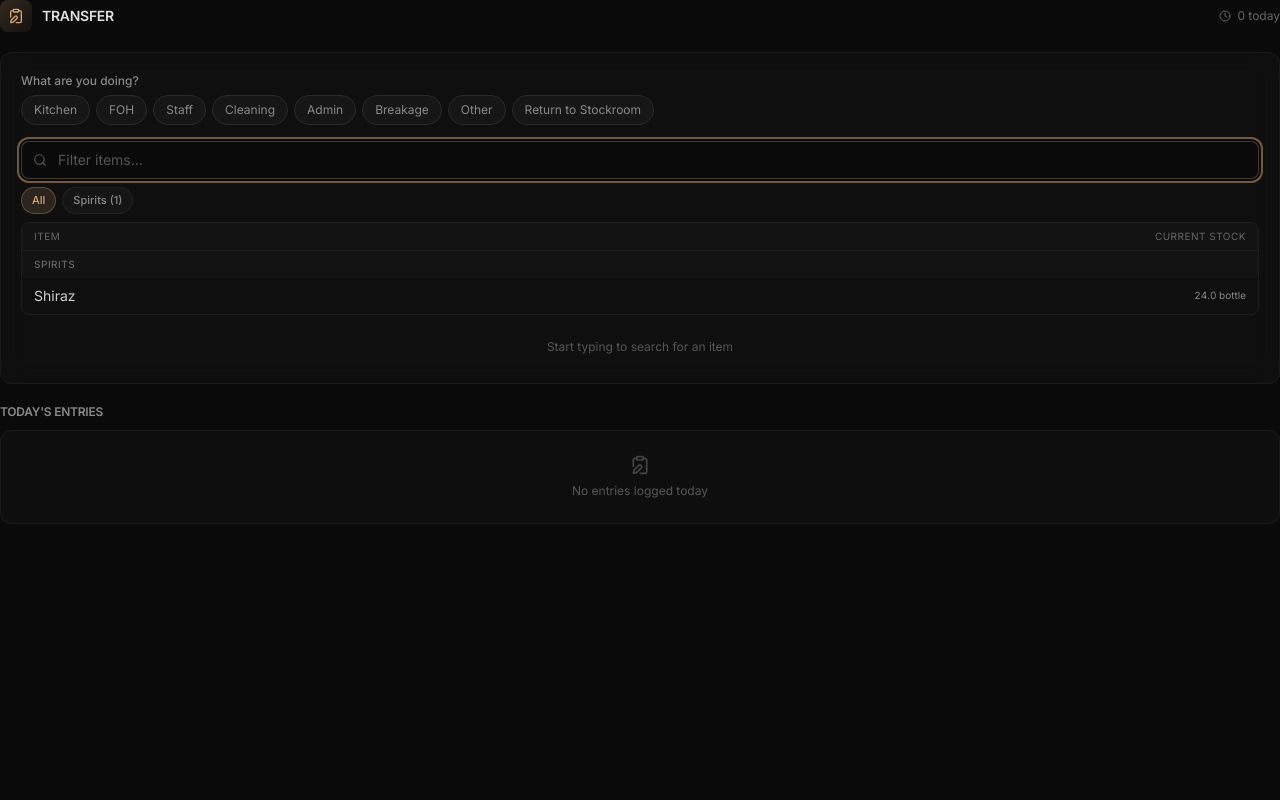
Test: ConsumptionLogger — move-not-usage guardrail › intercepts FOH usage of a sellable kitchen ingredient
Click the button "FOH": (122, 110) [96,95,147,125]
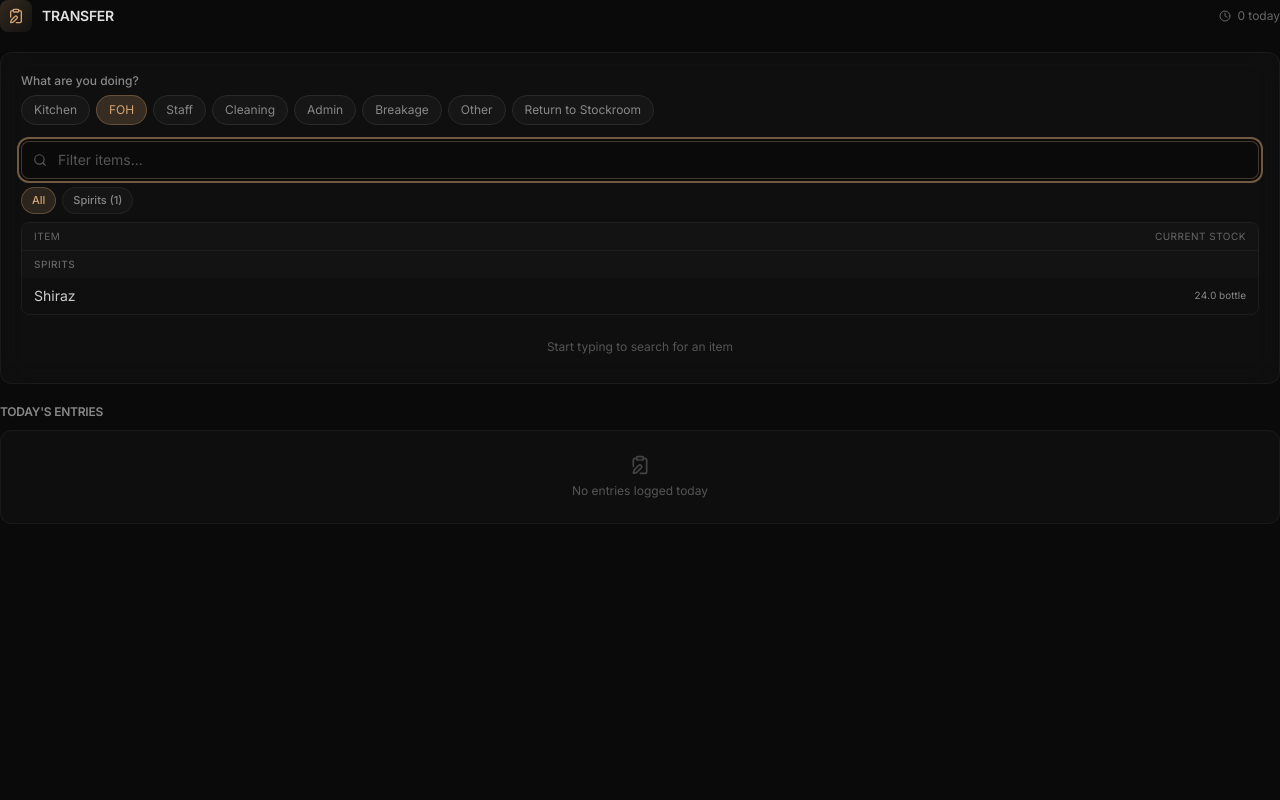
In the field with placeholder "Filter items...": (640, 160) [21,141,1259,179], type "Shiraz"
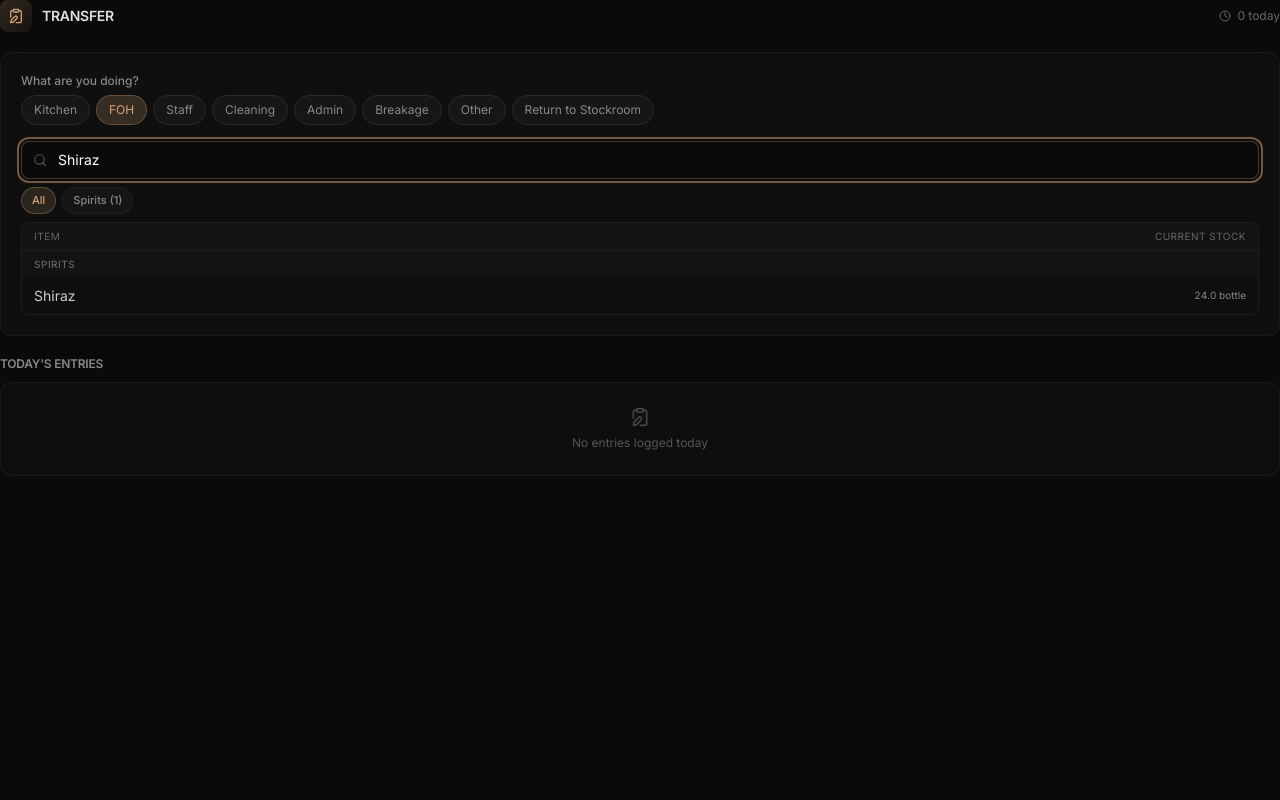
Click the button "Shiraz 24.0 bottle": (55, 295) [22,278,1258,314]
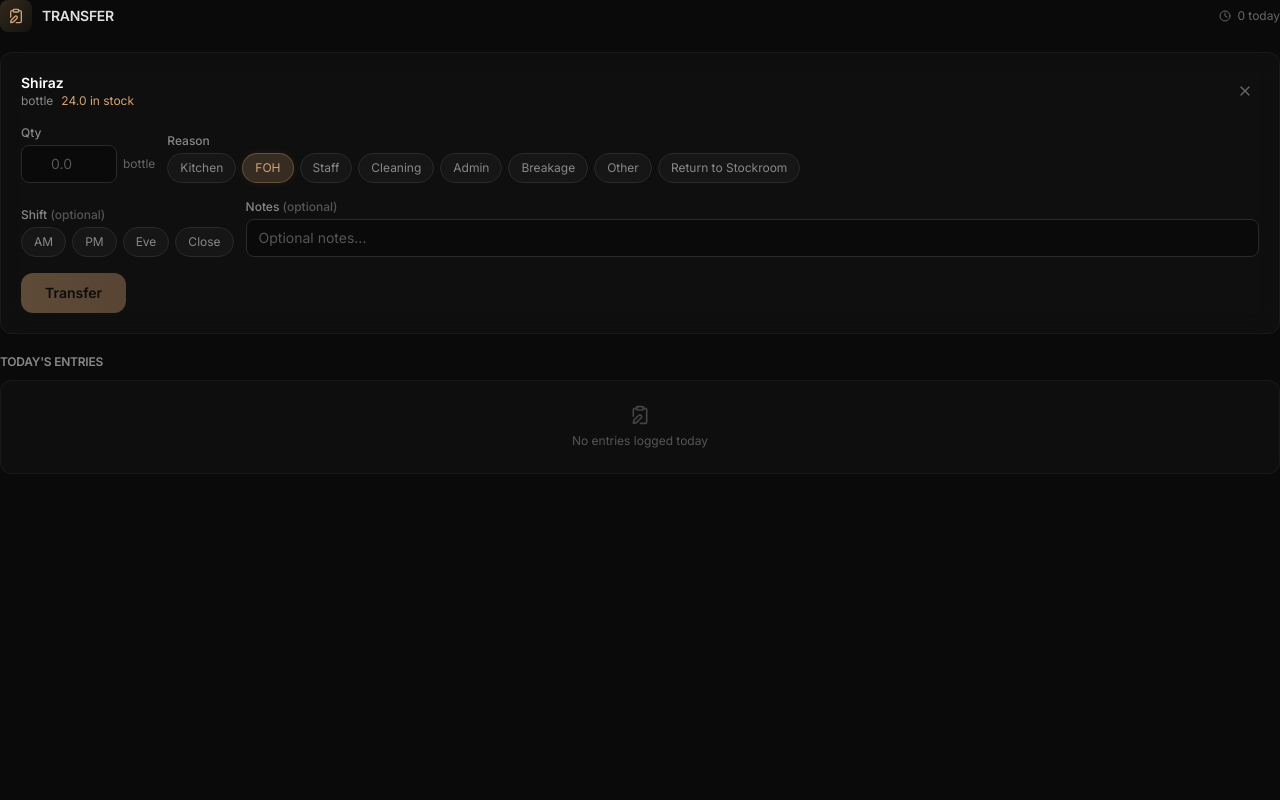
In the number field with placeholder "0.0": (69, 164) [21,145,117,183], type "4"
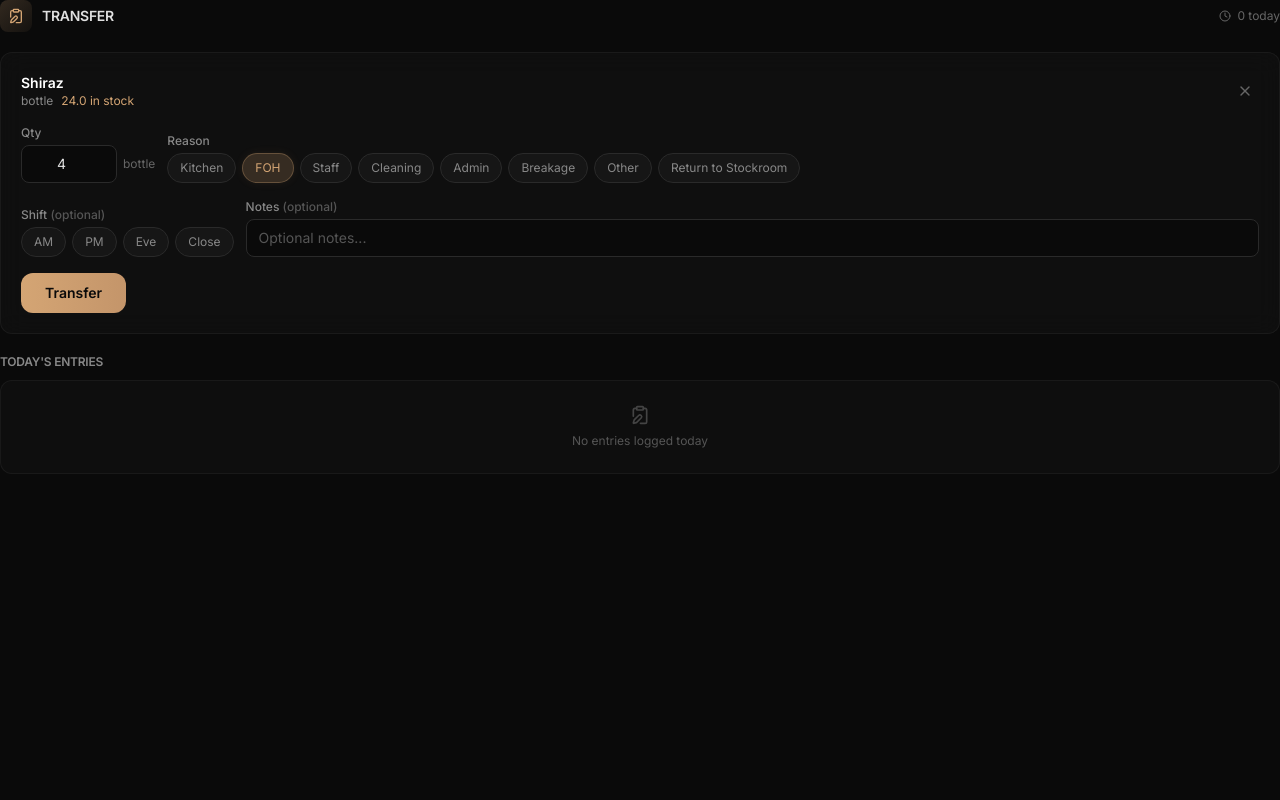
Click the button "Transfer": (74, 293) [21,273,126,313]
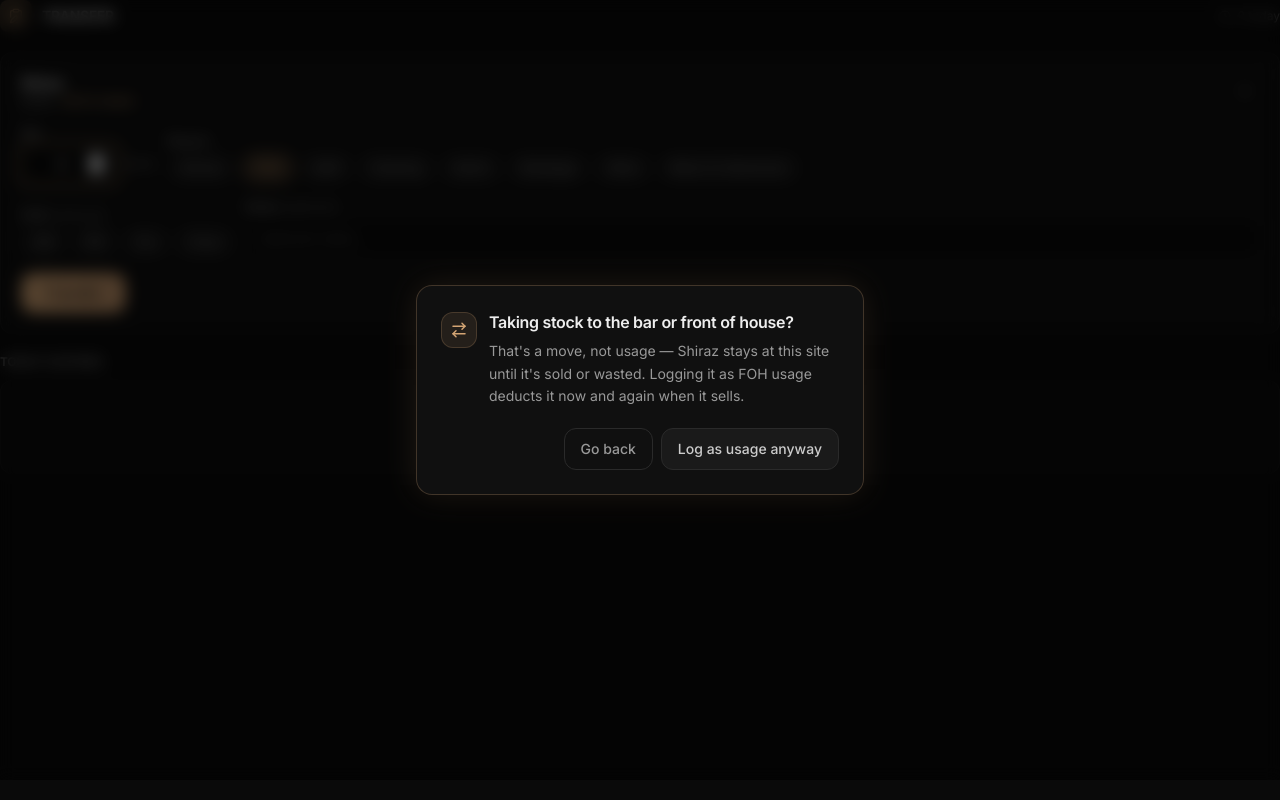
Expected: the dialog is shown
Expected: the text "That's a move, not usage" is shown, [489,342,678,359]
